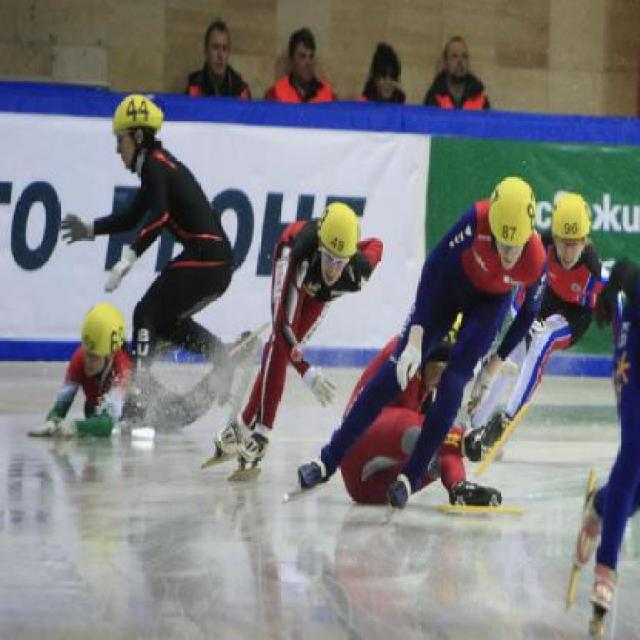fall: (304, 379, 524, 515)
